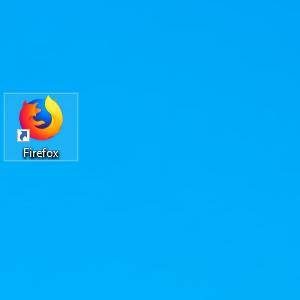firefox: (16, 95, 64, 143)
